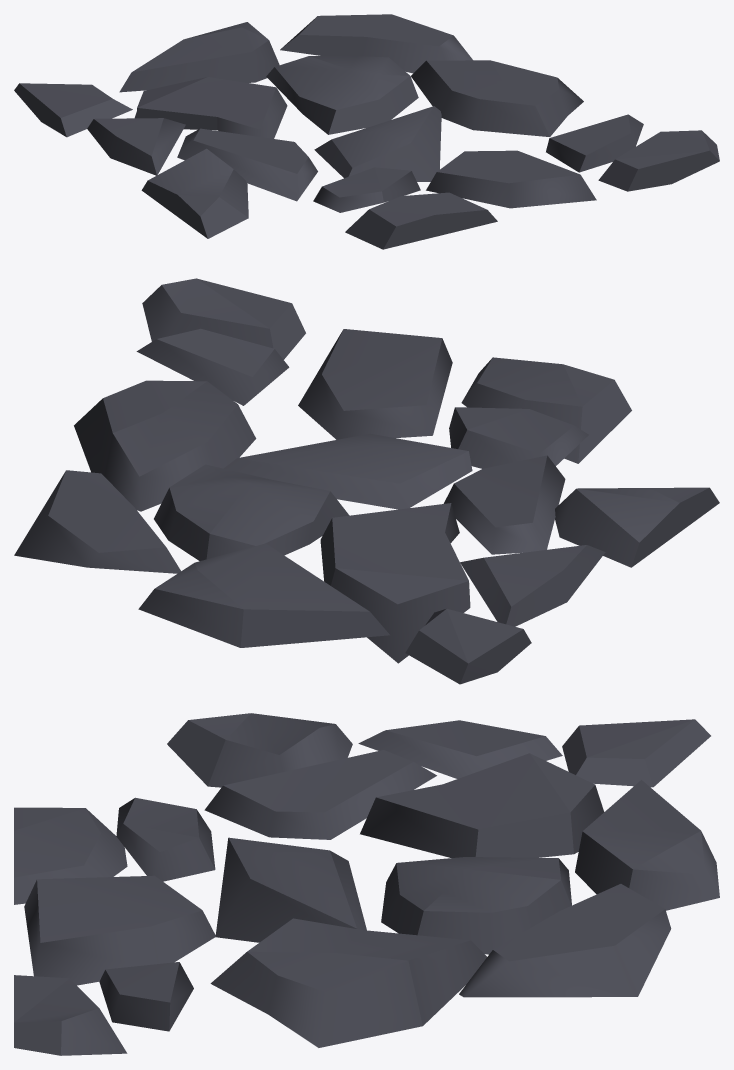
The model's file is Stone_Path_Turn_RU.fbx.
The picture shows the model from 3 angles, top to bottom: view 1: azimuth 30°, elevation 25°; view 2: azimuth 150°, elevation 25°; view 3: azimuth 270°, elevation 25°; orthographic projection. The views are drawn at different scales.
Visible parts, largest first — view 1: Stone_Path_Turn_RU; view 2: Stone_Path_Turn_RU; view 3: Stone_Path_Turn_RU.
Boxes of the visible parts, x1=… form: Stone_Path_Turn_RU: x1=14, y1=14, x2=719, y2=249; Stone_Path_Turn_RU: x1=14, y1=278, x2=719, y2=684; Stone_Path_Turn_RU: x1=14, y1=713, x2=719, y2=1055.
Bounding box in the file's own units: 121 × 15.18 × 112.
